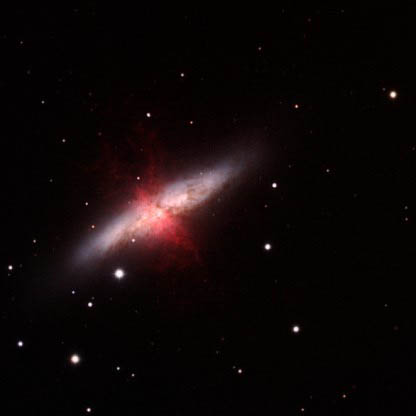Messier 82: (48, 121, 276, 295)
